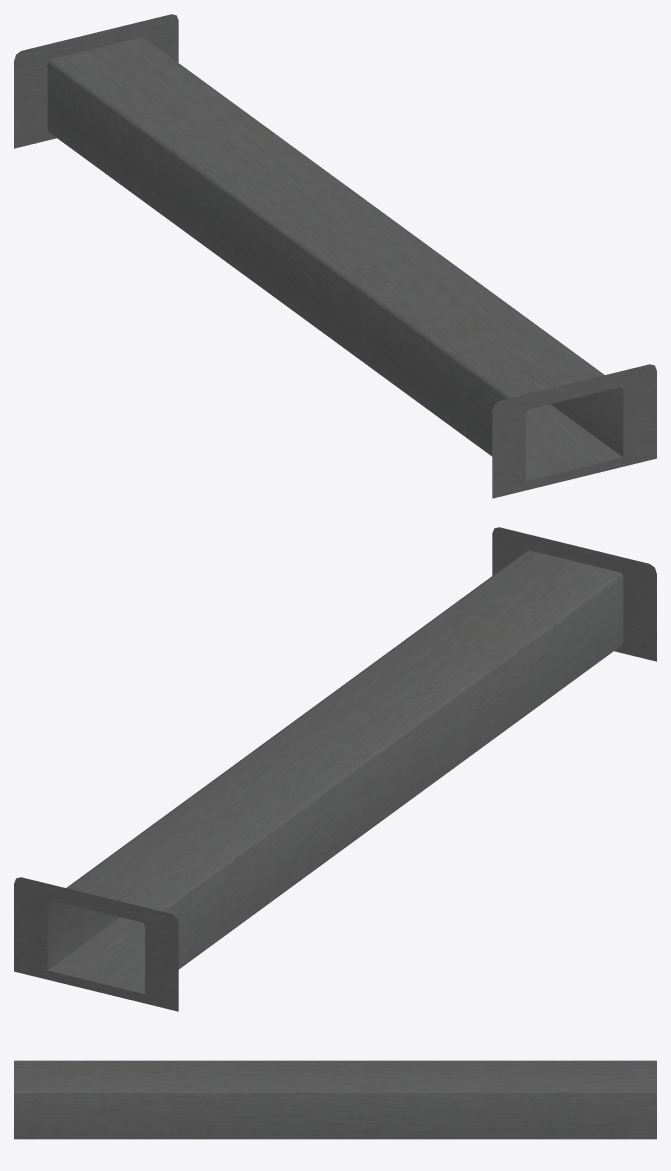
The model's file is tunnel.gltf.
3 views of the same model, one above another, from view 1: azimuth 30°, elevation 25°; view 2: azimuth 150°, elevation 25°; view 3: azimuth 270°, elevation 25° (orthographic). The views are drawn at different scales.
Bounding box in the file's own units: 2.89 × 1.61 × 14.54.
1 material, 1 textured.
